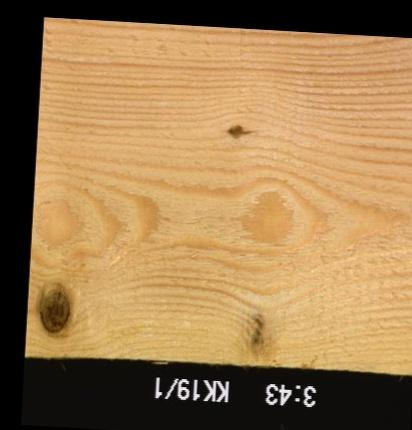dry_knot: (36, 286, 71, 335), (223, 123, 255, 141)
